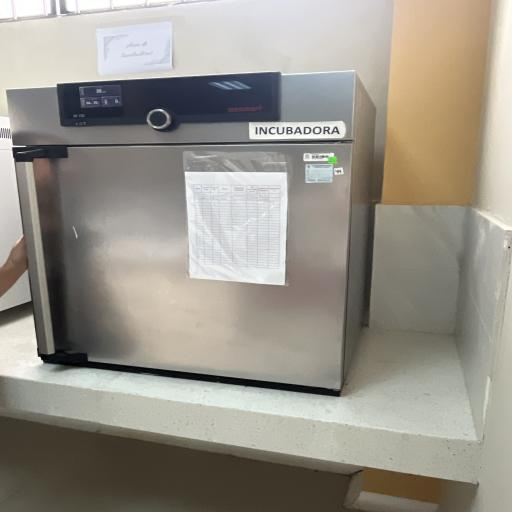Incubadora: (1, 65, 398, 405)
